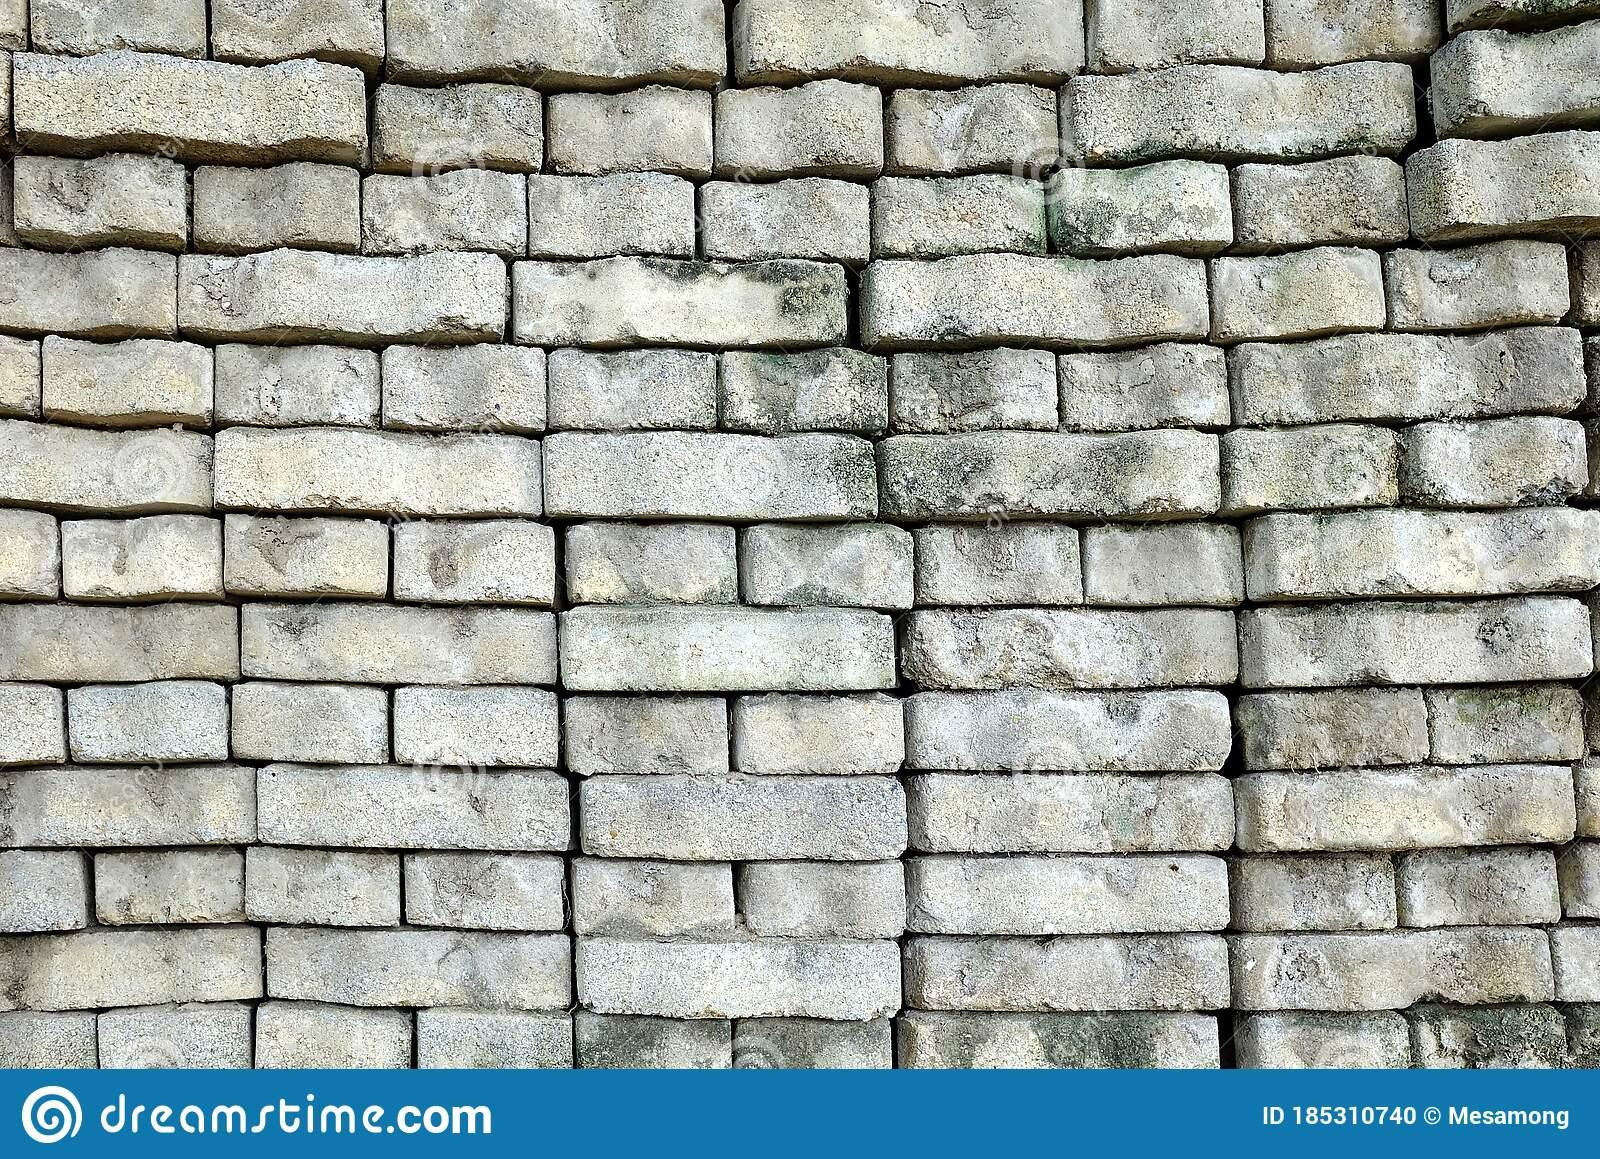brick: (1230, 327, 1585, 426), (14, 50, 366, 145), (1066, 63, 1416, 158), (1246, 507, 1600, 600), (1241, 596, 1594, 687), (880, 426, 1221, 514), (1235, 765, 1576, 852), (868, 253, 1209, 340), (543, 431, 877, 518), (179, 247, 506, 335), (212, 426, 542, 513), (514, 257, 847, 343), (580, 774, 907, 860), (576, 937, 901, 1020), (903, 607, 1239, 687), (386, 0, 727, 78), (744, 0, 1084, 78), (559, 614, 896, 692), (1232, 929, 1554, 1010), (907, 691, 1230, 770), (909, 774, 1235, 852), (242, 602, 555, 683), (258, 769, 569, 850), (266, 927, 570, 1009), (903, 937, 1230, 1012), (908, 858, 1230, 933), (1, 925, 262, 1011), (0, 766, 255, 847), (1407, 130, 1600, 236), (1431, 17, 1600, 137), (1, 417, 214, 509), (898, 1012, 1220, 1070), (0, 602, 239, 679), (1401, 415, 1590, 508), (1050, 159, 1234, 252), (1232, 154, 1410, 246), (1386, 240, 1570, 328), (1212, 247, 1385, 339), (1237, 689, 1429, 770), (716, 78, 883, 170), (1221, 424, 1399, 509), (0, 247, 176, 332), (550, 84, 713, 175), (1060, 343, 1229, 430), (698, 176, 871, 261), (15, 154, 185, 239), (892, 84, 1060, 170), (529, 171, 693, 258), (742, 525, 914, 607), (373, 84, 542, 168), (892, 347, 1058, 431), (873, 174, 1045, 256), (384, 343, 545, 430), (43, 337, 212, 419), (718, 348, 887, 430), (195, 163, 360, 246), (363, 169, 527, 252), (735, 693, 904, 774), (549, 348, 717, 429), (224, 513, 388, 595), (62, 514, 224, 598), (566, 524, 735, 604), (215, 344, 380, 425), (396, 520, 554, 604), (916, 524, 1078, 604), (565, 697, 729, 775), (68, 681, 229, 760), (739, 861, 907, 937), (573, 858, 734, 937), (395, 688, 559, 765), (1232, 856, 1398, 932), (1087, 523, 1243, 602), (232, 684, 388, 764), (1400, 852, 1560, 928), (405, 853, 565, 929), (1087, 0, 1265, 68), (246, 847, 399, 925), (96, 850, 243, 925), (1429, 689, 1581, 763), (1266, 0, 1437, 62), (31, 1, 206, 60), (211, 1, 385, 60), (253, 1005, 411, 1068), (98, 1007, 251, 1068), (575, 1012, 730, 1070), (1416, 1010, 1564, 1068), (419, 1012, 571, 1068), (1253, 1017, 1411, 1070), (734, 1019, 892, 1068)
